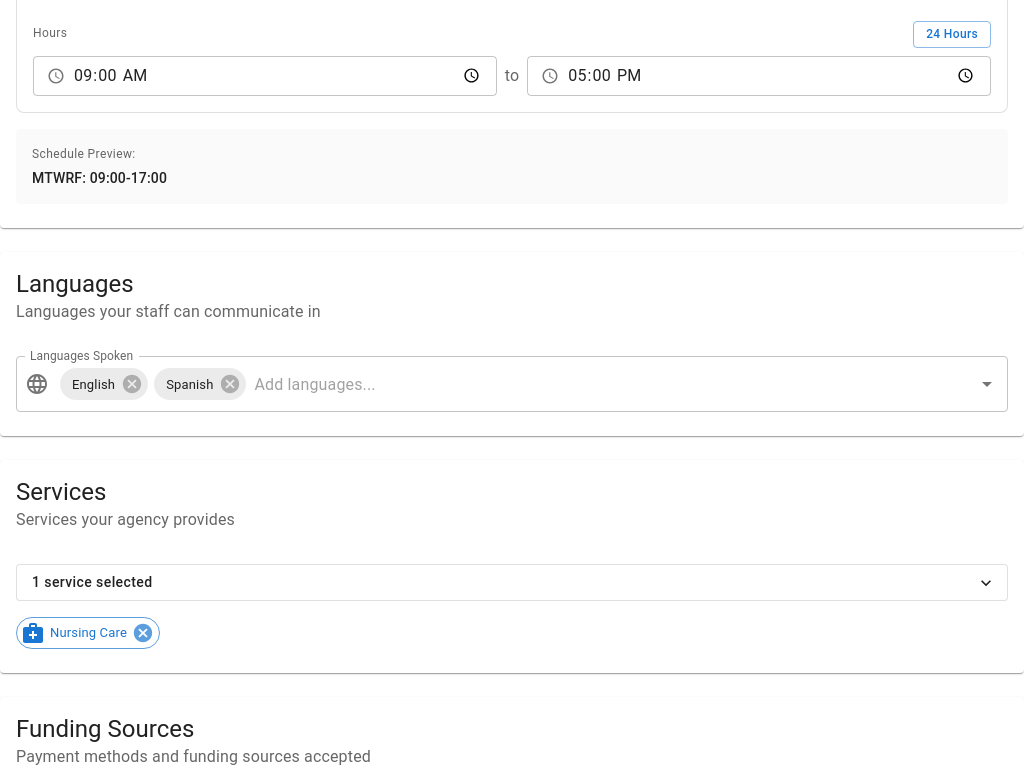
Test: Edit Agency Page - BVA Tests › Selection Count Boundaries › Languages Selection Count › 0 languages - field is empty
The image size is (1024, 768).
(page scrolled)
Click the 1st icon with test id "CancelIcon" at x=132, y=384, box x1=121 y1=373 x2=143 y2=395
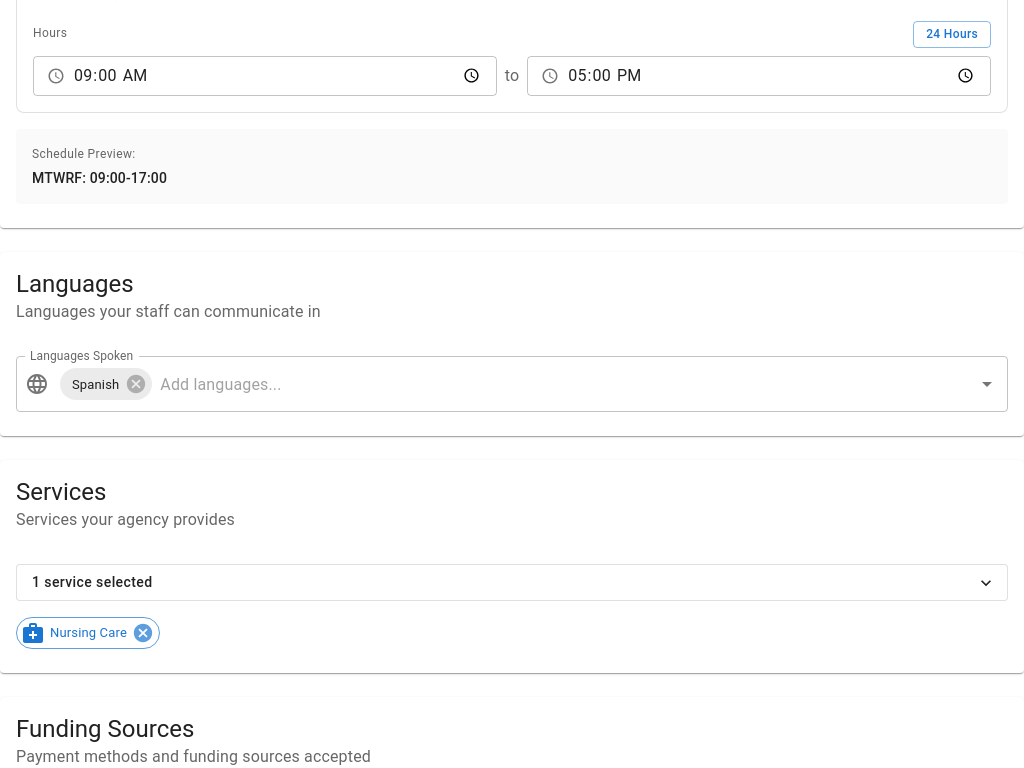
Click the 1st icon with test id "CancelIcon" at x=136, y=384, box x1=125 y1=373 x2=147 y2=395
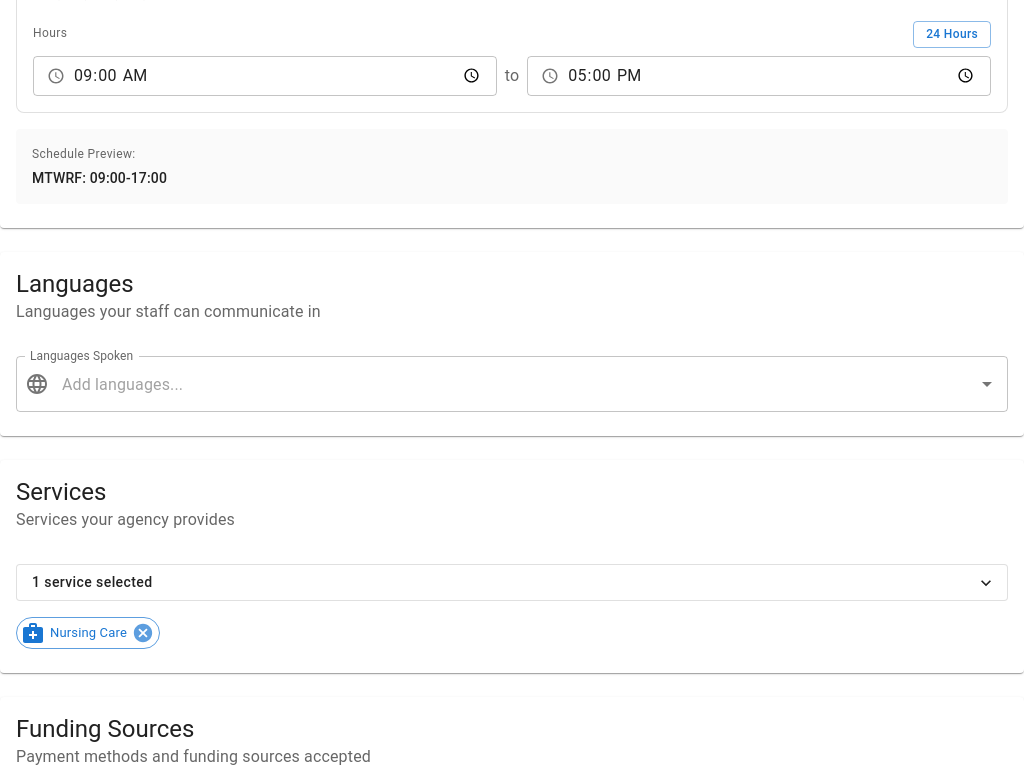
Expected: the button "English" is not shown
Result: the button "Spanish" is gone
